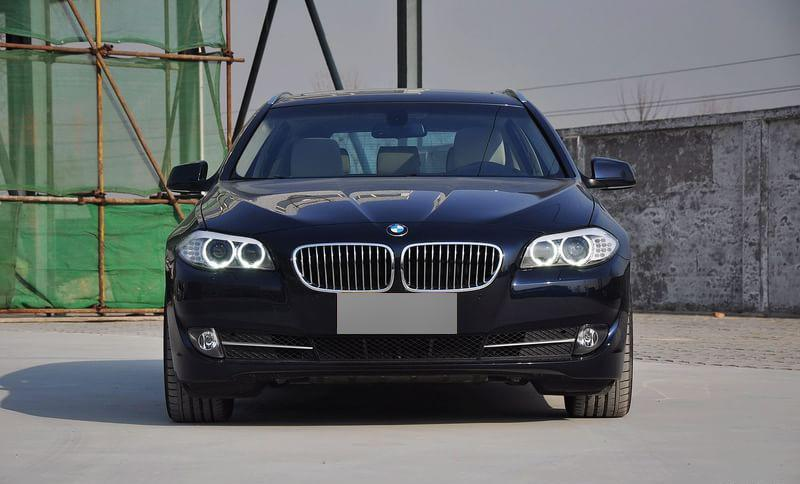Wagon: (162, 85, 639, 424)
